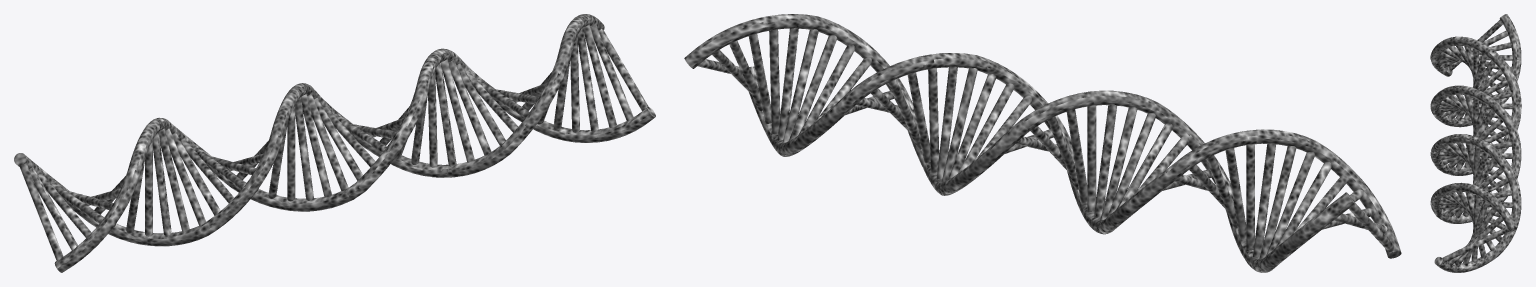
File: dna.glb
3 renders of one model, left to right at view 1: azimuth 30°, elevation 25°; view 2: azimuth 150°, elevation 25°; view 3: azimuth 270°, elevation 25°, orthographic. The views are drawn at different scales.
Parts seen in each view (by area): view 1: Object_2; view 2: Object_2; view 3: Object_2.
Part boxes in pixels (x1,y1,x2,y2): Object_2: (14, 14, 655, 272); Object_2: (684, 14, 1401, 272); Object_2: (1430, 14, 1521, 272).
Size of the model in its own units: 10.25 by 1.93 by 1.94.
Materials: 1 (1 with a texture image).
